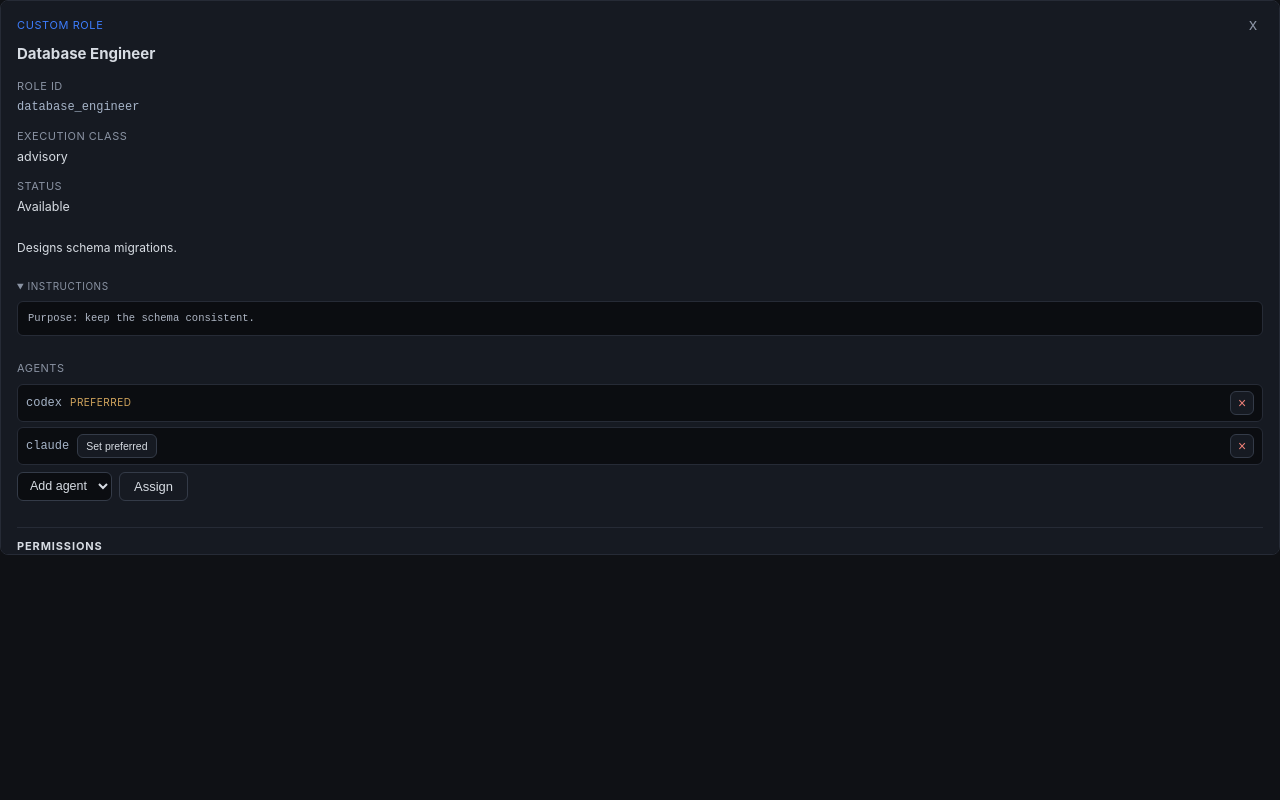
Role inspector › surfaces role API failures inline
Click the button named "Remove claude from Database Engineer": click(1242, 446) [1230,434,1254,458]
(page scrolled)
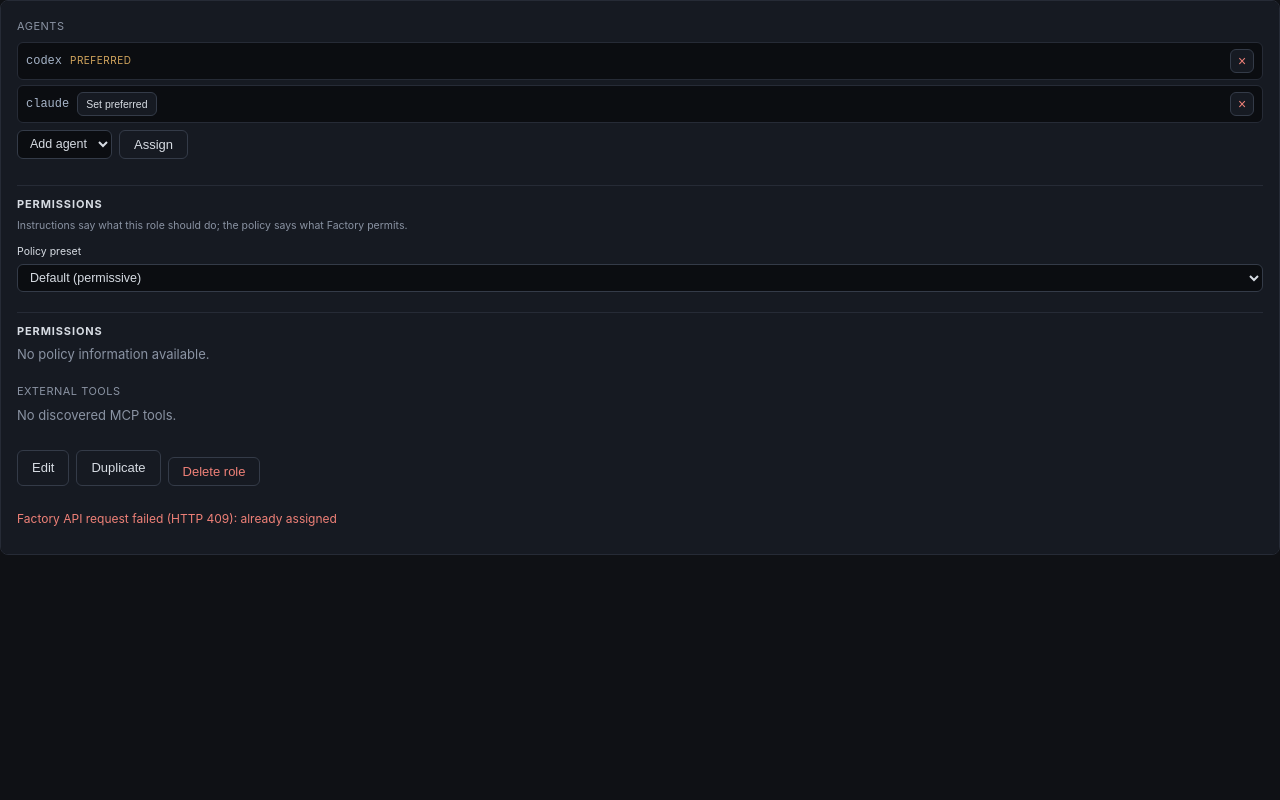
Check: the text "Factory API request failed (HTTP 409): already assigned" is shown, box [17,511,337,526]
